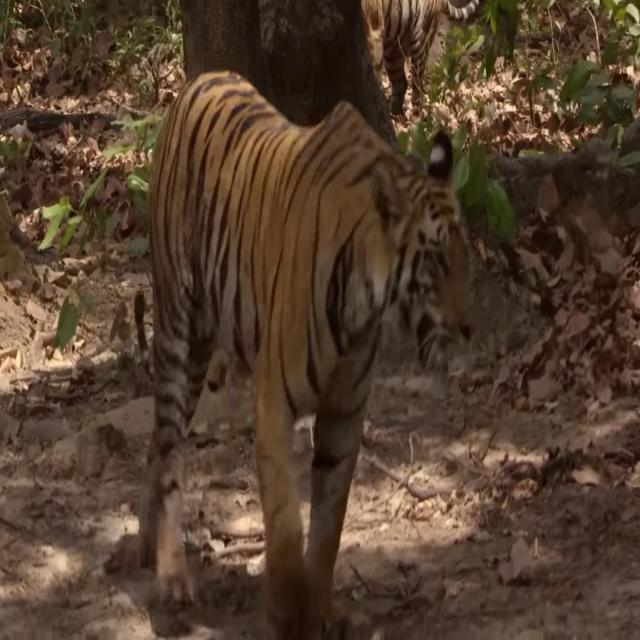tiger: (134, 67, 476, 640)
